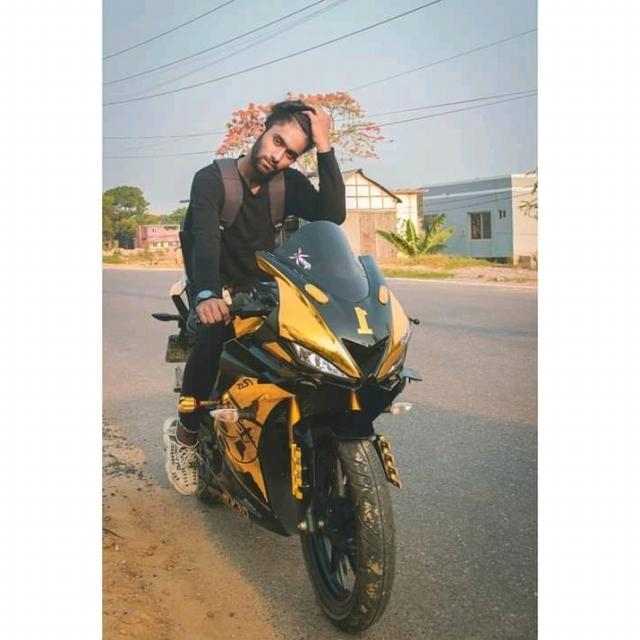Not Wearing Helmet: (215, 36, 347, 229)
